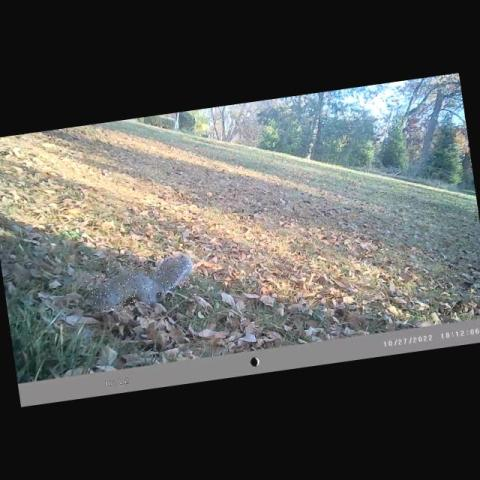small_animal: (74, 250, 194, 316)
